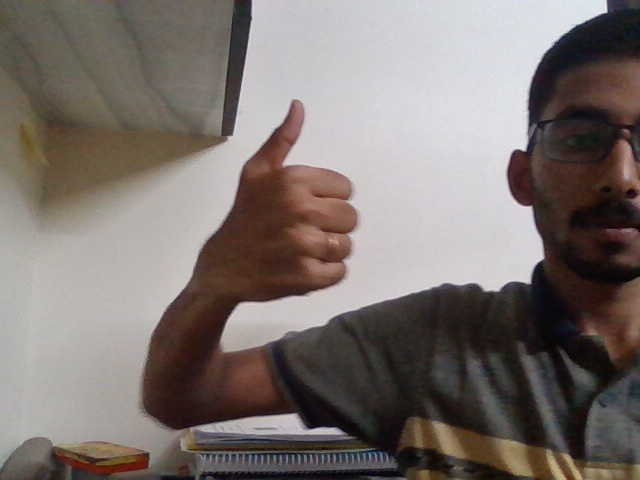Yes: (202, 84, 368, 328)
